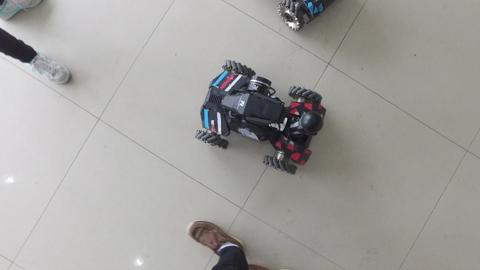chariot: (189, 60, 328, 177)
